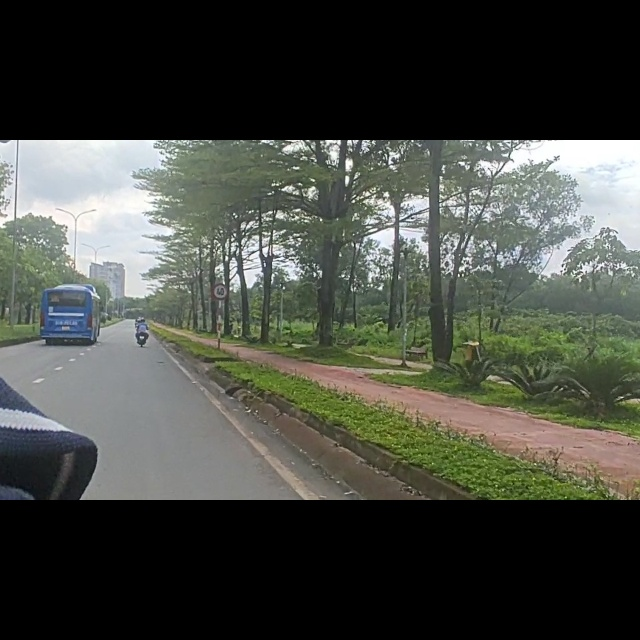Tốc độ tối đa cho phép 40km/h: (213, 284, 228, 299)
